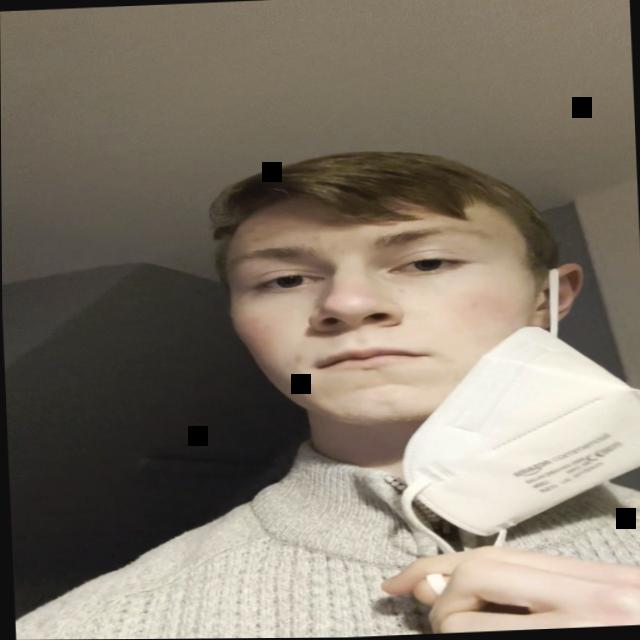NO-Mask: (200, 153, 569, 467)
